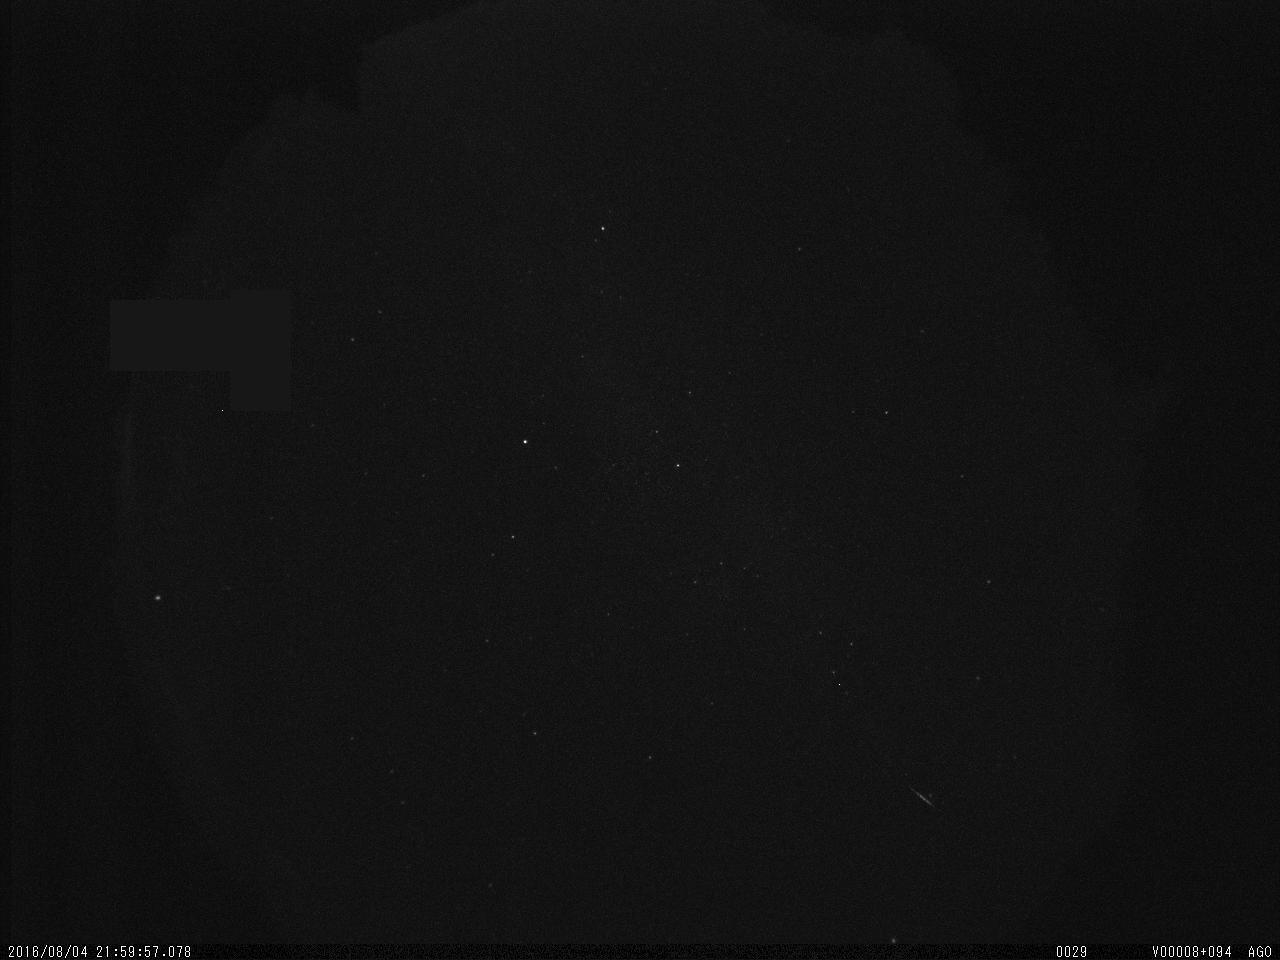meteor: (879, 757, 950, 824)
